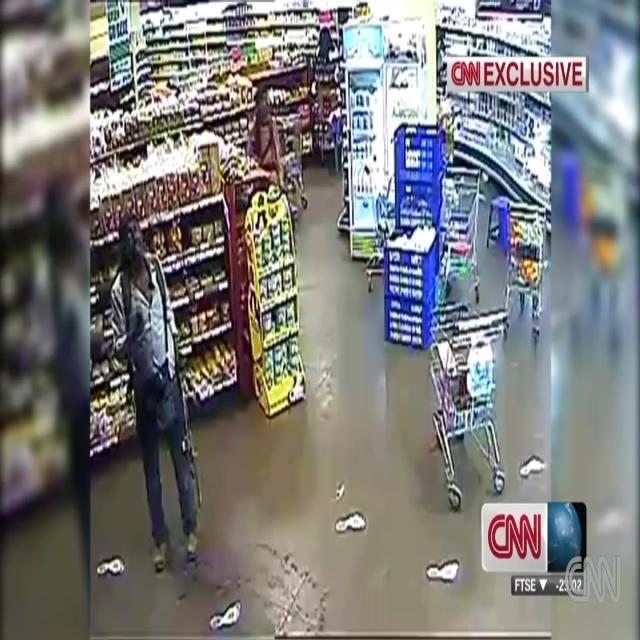Weapon: (167, 326, 216, 532)
